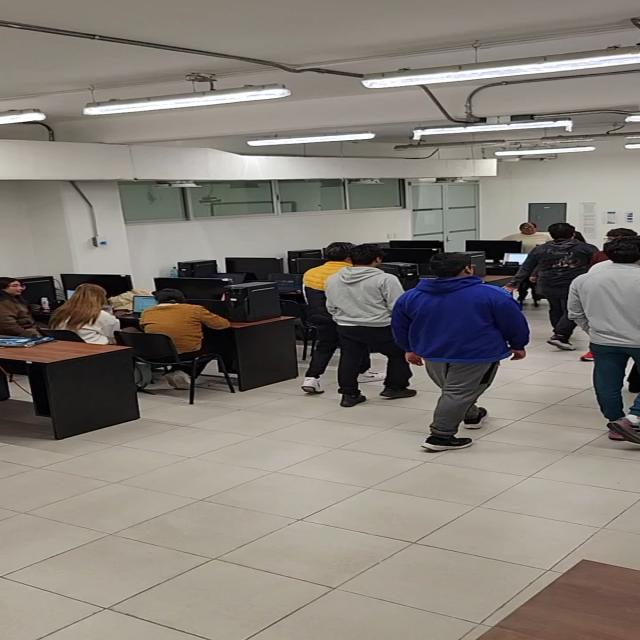Persona: (400, 248, 519, 455), (328, 239, 413, 408), (583, 234, 640, 448), (283, 232, 335, 400), (533, 218, 581, 358)
